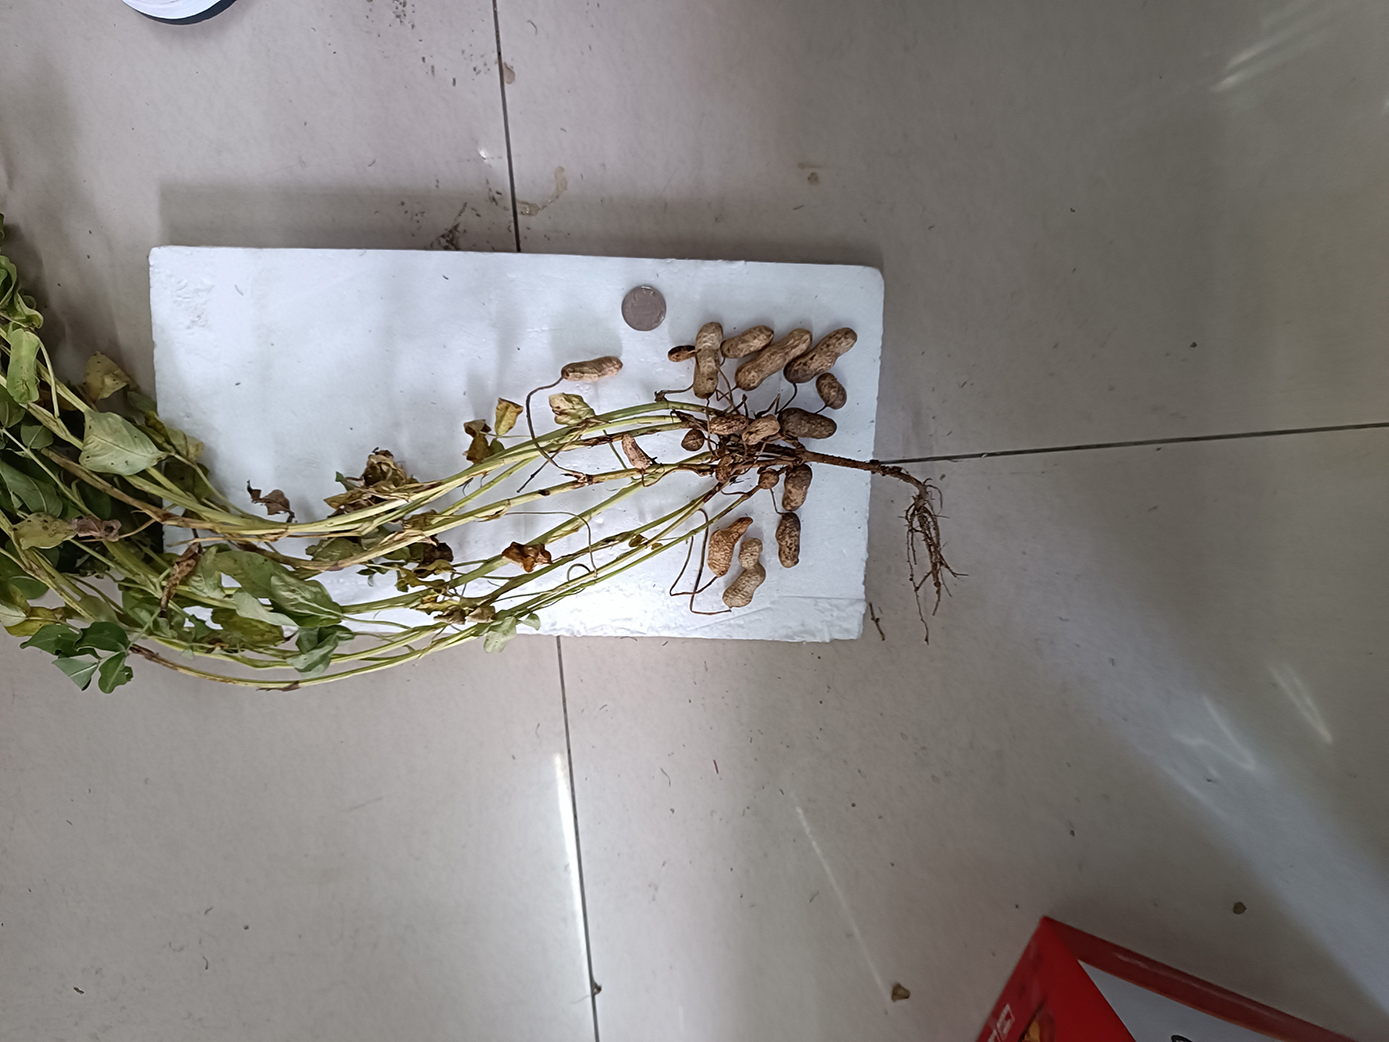h: (736, 328, 813, 390), (784, 327, 857, 383), (721, 539, 766, 607), (706, 517, 754, 577), (693, 322, 724, 400), (720, 325, 773, 359), (559, 355, 624, 380), (782, 464, 813, 511), (621, 432, 652, 472), (741, 414, 779, 445), (817, 373, 847, 409), (708, 415, 746, 436), (759, 468, 780, 489), (668, 346, 695, 362)
l: (778, 407, 837, 439), (776, 513, 801, 568), (681, 430, 704, 450)
